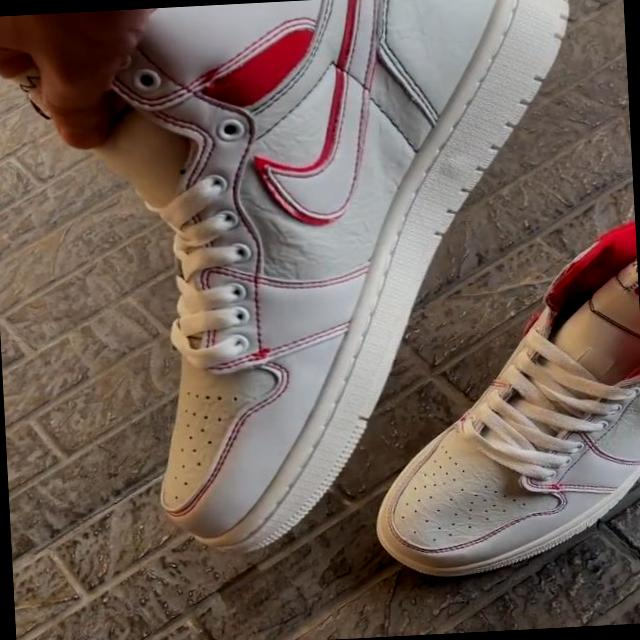nike_fake_jordan: (25, 0, 602, 563), (357, 209, 640, 580)
